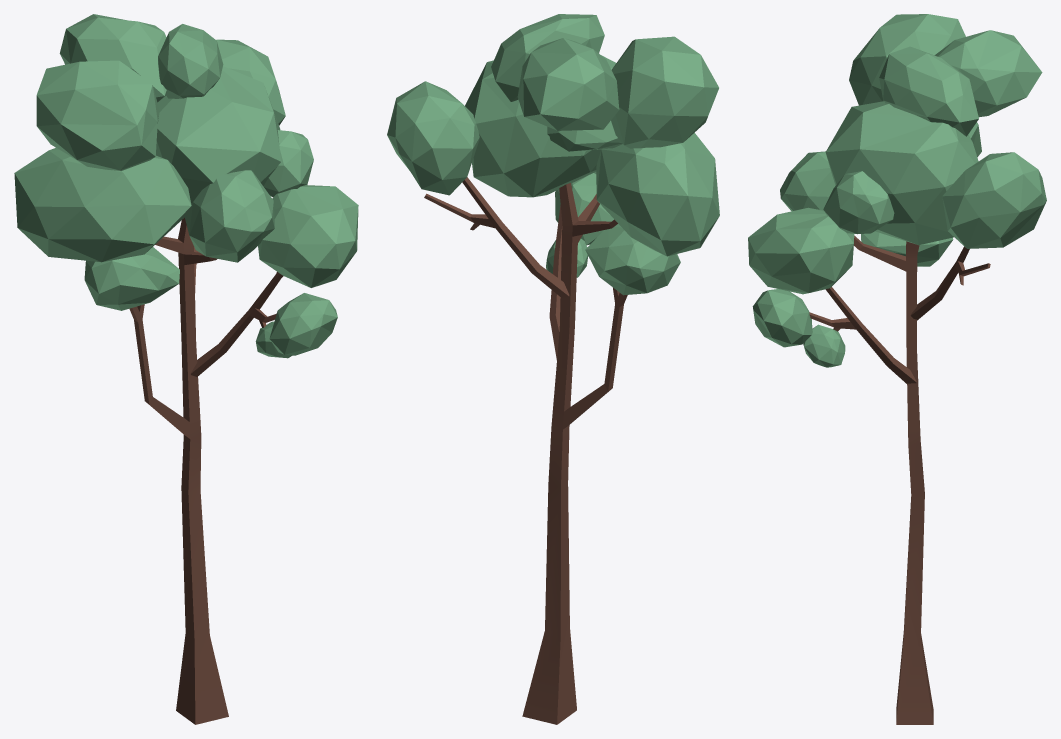
File: sapling1.fbx
The picture shows the model from 3 angles, left to right: view 1: azimuth 30°, elevation 25°; view 2: azimuth 150°, elevation 25°; view 3: azimuth 270°, elevation 25°; orthographic projection. The views are drawn at different scales.
Visible parts, largest first — view 1: pPlatonic3, pCube1, pPlatonic7, pPlatonic1, pPlatonic2 (×2), pPlatonic5, pPlatonic9, pPlatonic10, pPlatonic13, pPlatonic11, pPlatonic4, pCube2 (+1 smaller); view 2: pCube1, pPlatonic3, pPlatonic7, pPlatonic1, pPlatonic9, pPlatonic2, pPlatonic10, pPlatonic13, pCube2 (×2), pPlatonic14, pPlatonic11; view 3: pPlatonic2 (×2), pPlatonic1, pCube1, pPlatonic13, pPlatonic9, pPlatonic7, pPlatonic4, pCube2 (×2), pPlatonic11, pPlatonic5, pPlatonic12, pPlatonic10.
Boxes of the visible parts, x1,y1,x2,y2 form: pPlatonic3: (14,148,191,262); pCube1: (129,217,228,724); pPlatonic7: (36,60,159,170); pPlatonic1: (156,66,281,203); pPlatonic2 (×2): (216,39,358,287); pPlatonic5: (185,170,274,262); pPlatonic9: (59,14,166,102); pPlatonic10: (84,247,179,310); pPlatonic13: (158,24,223,98); pPlatonic11: (269,293,337,355); pPlatonic4: (263,130,313,197); pCube2: (190,272,283,376); pCube1: (522,183,627,724); pPlatonic3: (596,132,719,256); pPlatonic7: (611,36,718,148); pPlatonic1: (465,55,616,197); pPlatonic9: (517,38,619,130); pPlatonic2: (387,81,479,195); pPlatonic10: (585,223,680,295); pPlatonic13: (491,14,604,101); pCube2 (×2): (424,177,569,359); pPlatonic14: (547,121,622,151); pPlatonic11: (555,173,614,245); pPlatonic2 (×2): (748,152,1046,294); pPlatonic1: (825,101,978,245); pCube1: (854,235,933,724); pPlatonic13: (879,46,978,136); pPlatonic9: (934,30,1042,117); pPlatonic7: (849,14,965,105); pPlatonic4: (823,171,894,234); pCube2 (×2): (809,246,990,383); pPlatonic11: (752,289,812,347); pPlatonic5: (780,151,835,211); pPlatonic12: (803,324,845,367); pPlatonic10: (861,231,953,266).
Size of the model in its own units: 6.72 by 15.94 by 6.58.
